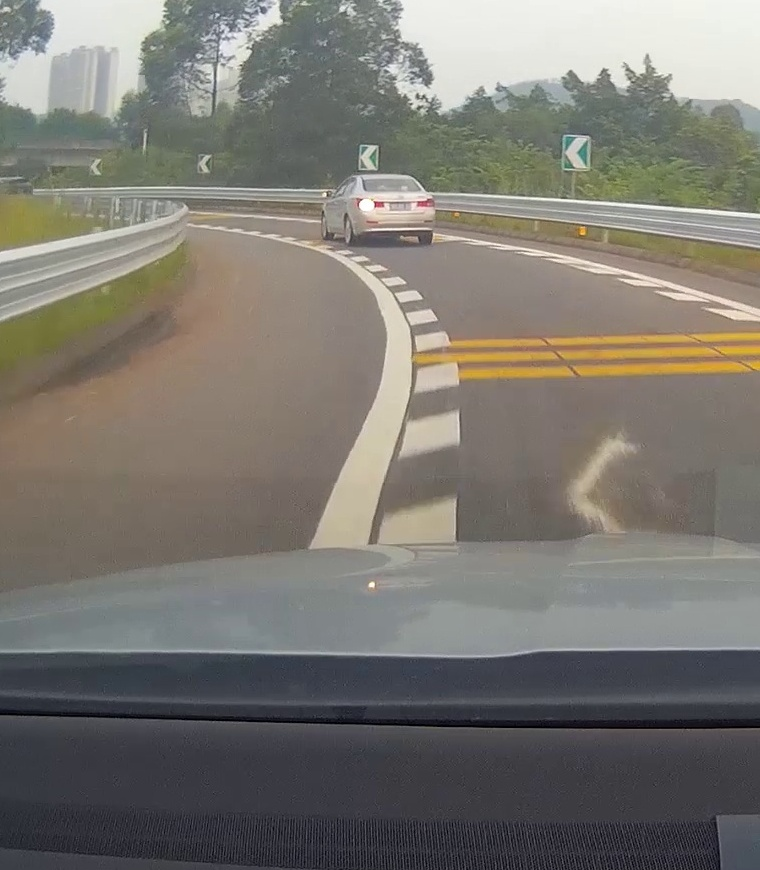L_light: (357, 198, 385, 209)
R_light: (416, 198, 435, 208)
T_light: (385, 178, 398, 181)
day-left: (352, 174, 435, 244)
